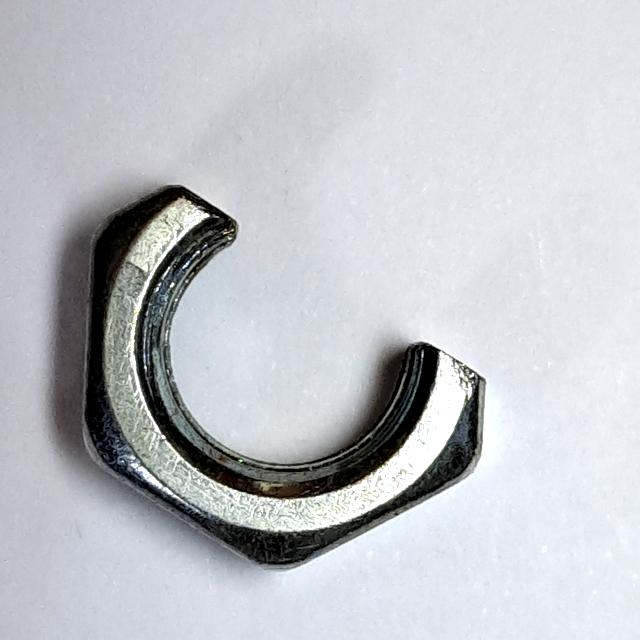Fracture: (70, 168, 506, 587)
